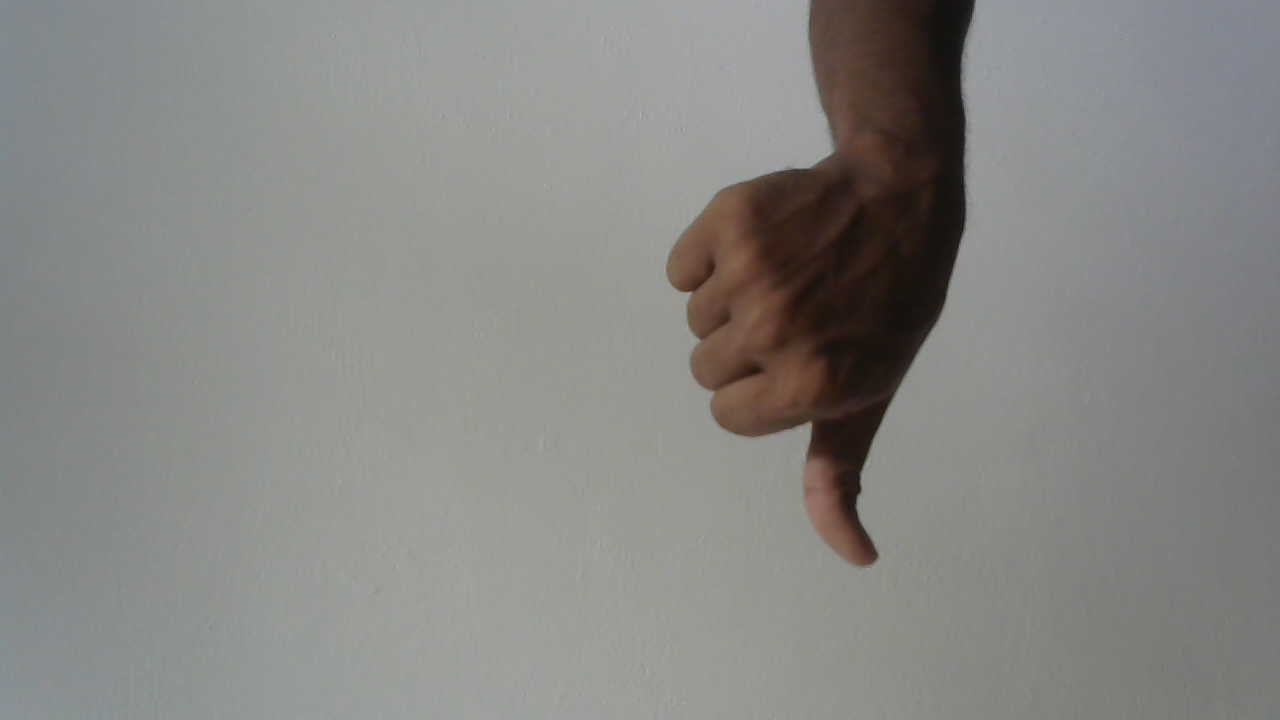thumbsdown: (662, 135, 983, 588)
